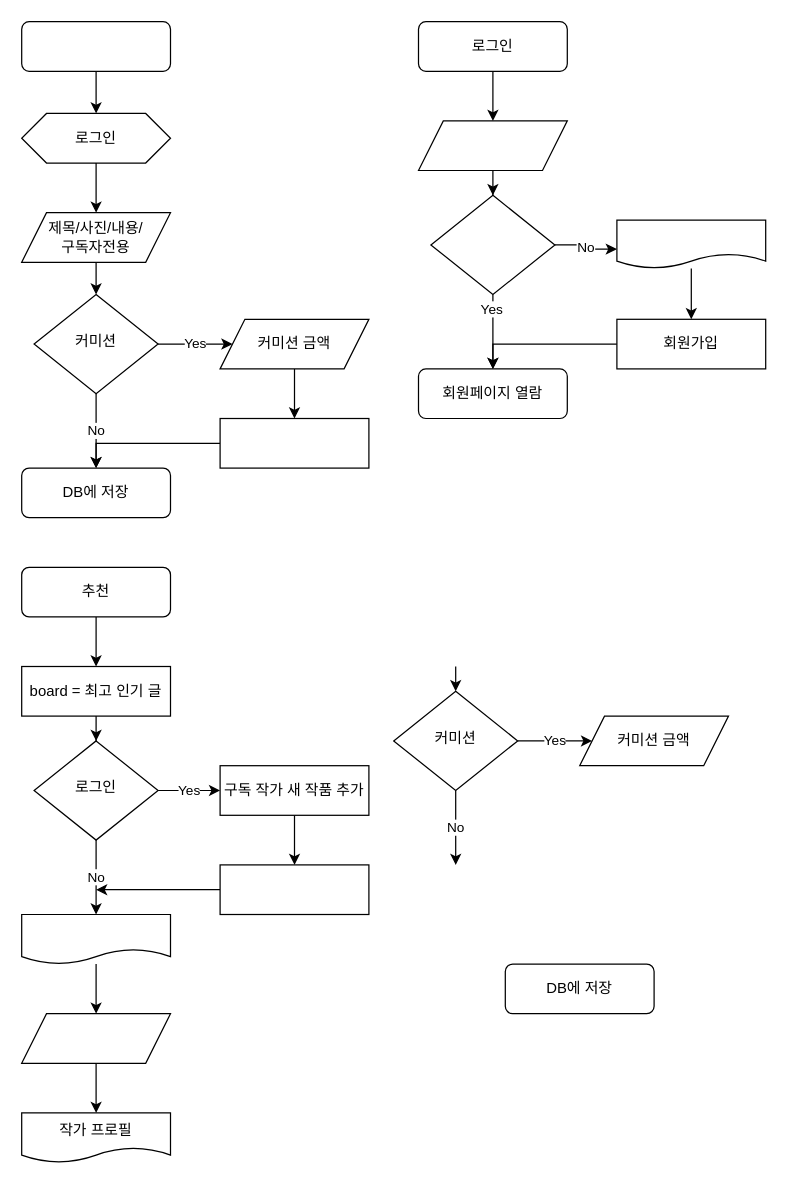
Some shapes in this 787 by 1184 pixel diagram are drawn without their labels. Each missing label, with the centre of its shape:
"board" belongs at point (95, 938).
"ID / PW" belongs at point (492, 145).
"글 쓰기" belongs at point (95, 45).
"작가 선택" belongs at point (95, 1037).
"최근 검색 추가" belongs at point (294, 889).
"회원 데이터" belongs at point (492, 244).
"회원가입 안내" belongs at point (691, 243).
"희망 작가에 전송" belongs at point (294, 442).
